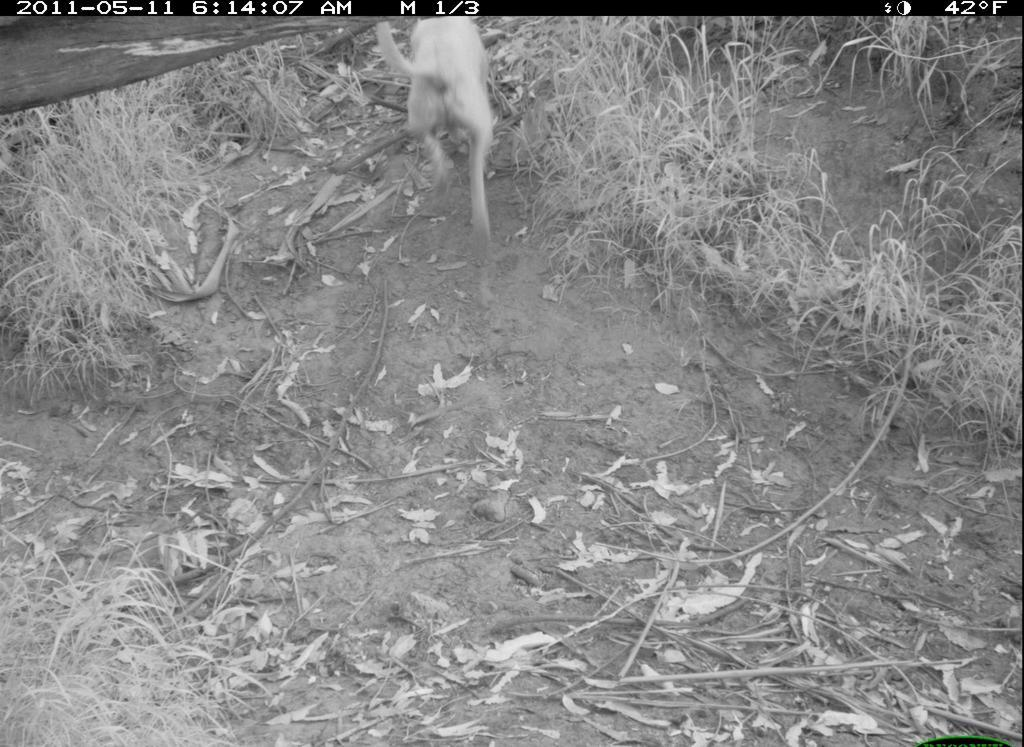dog: (378, 18, 518, 274)
